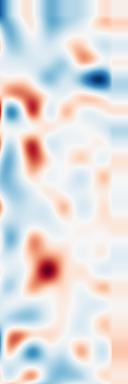filament: (22, 240, 73, 300)
